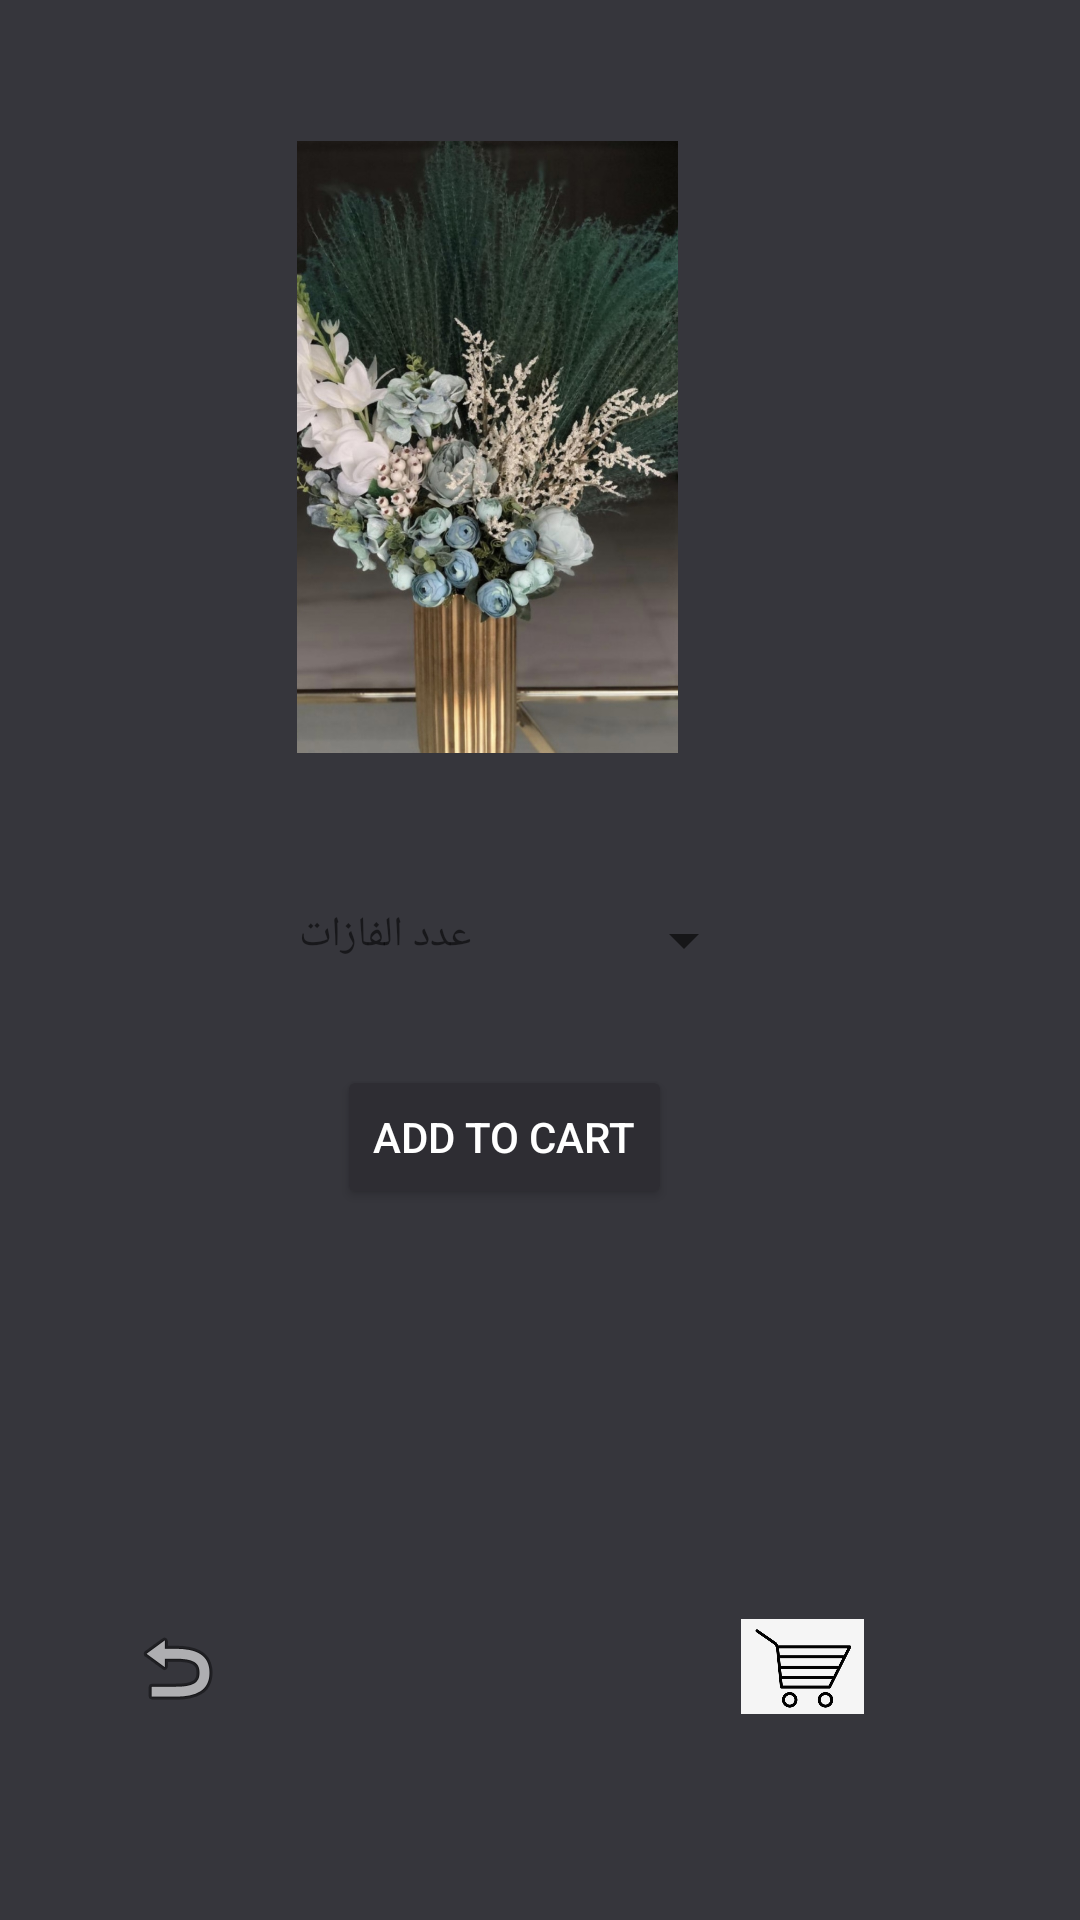

Point at icon controls on the screen. Image size 1080px x 1920px, points as (x=x, y=y).
revert: (x=178, y=1668)
